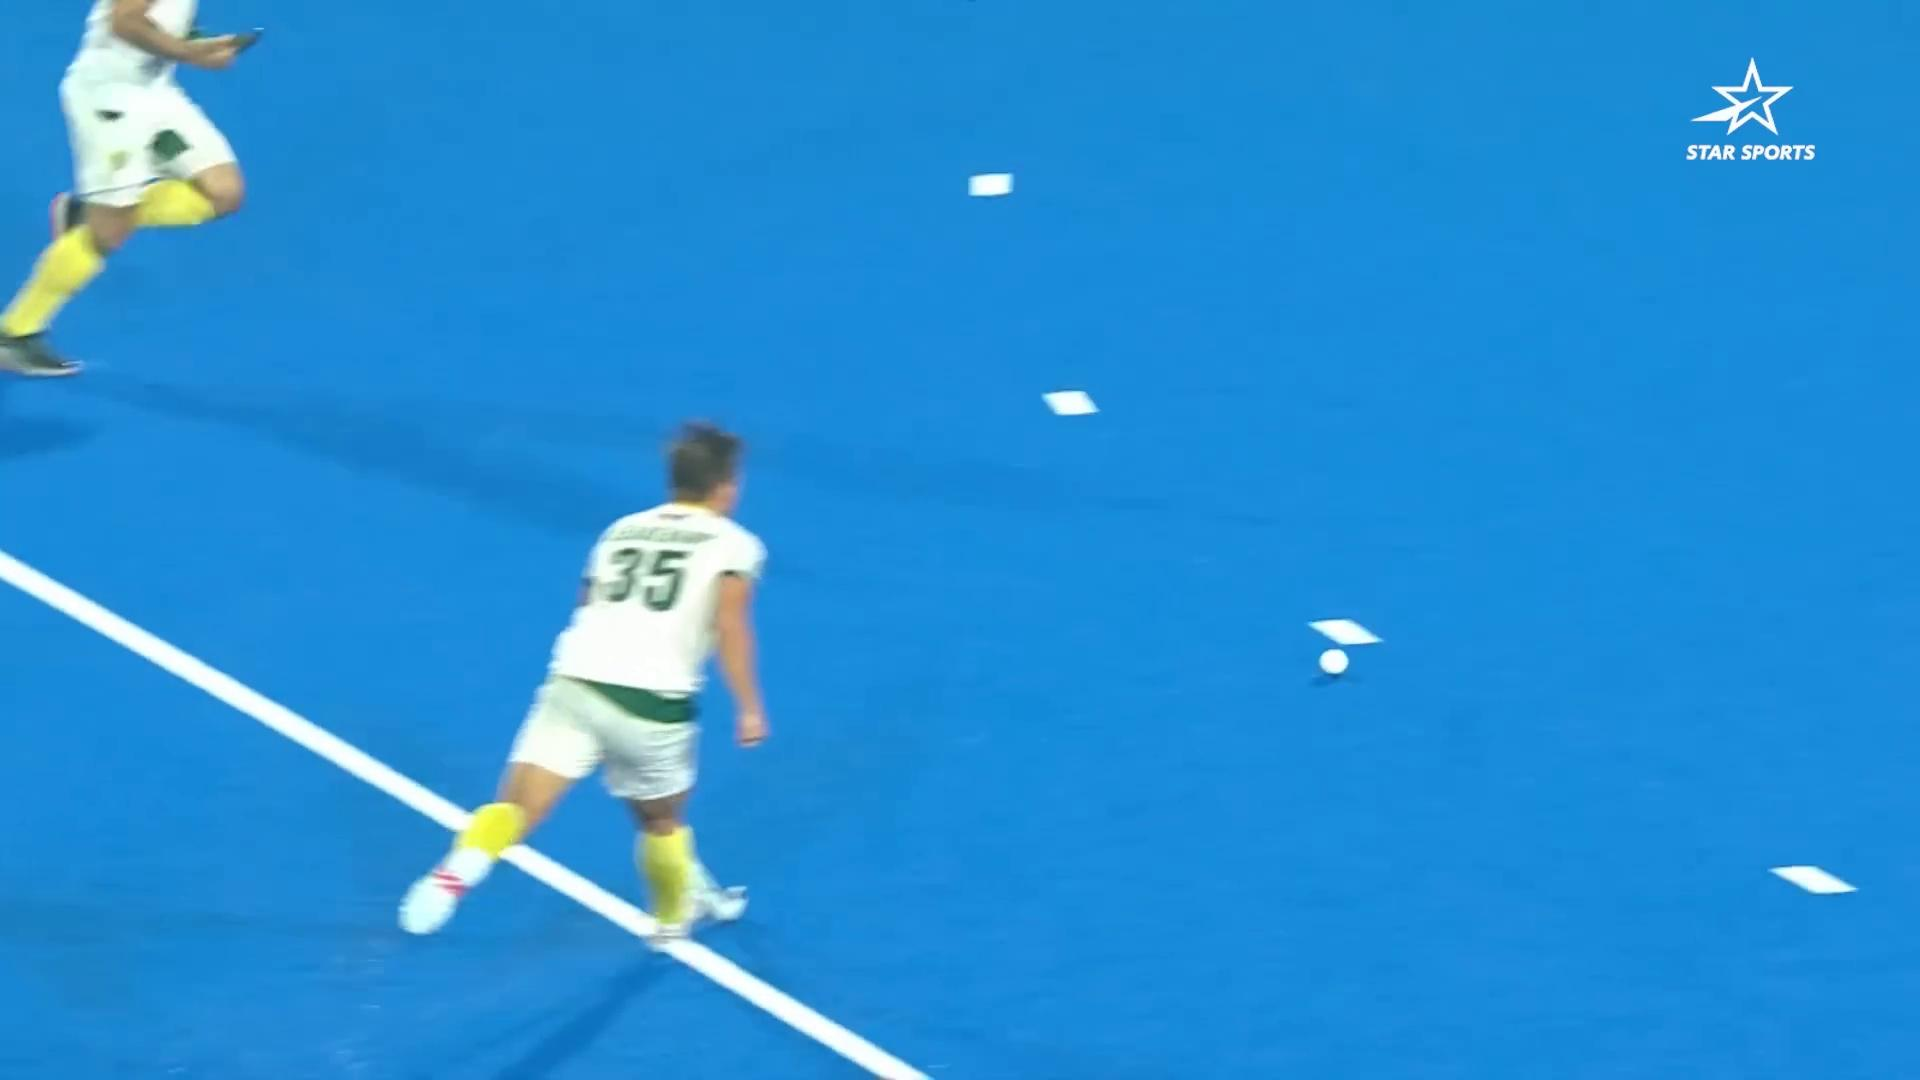ball: (1300, 626, 1360, 695)
